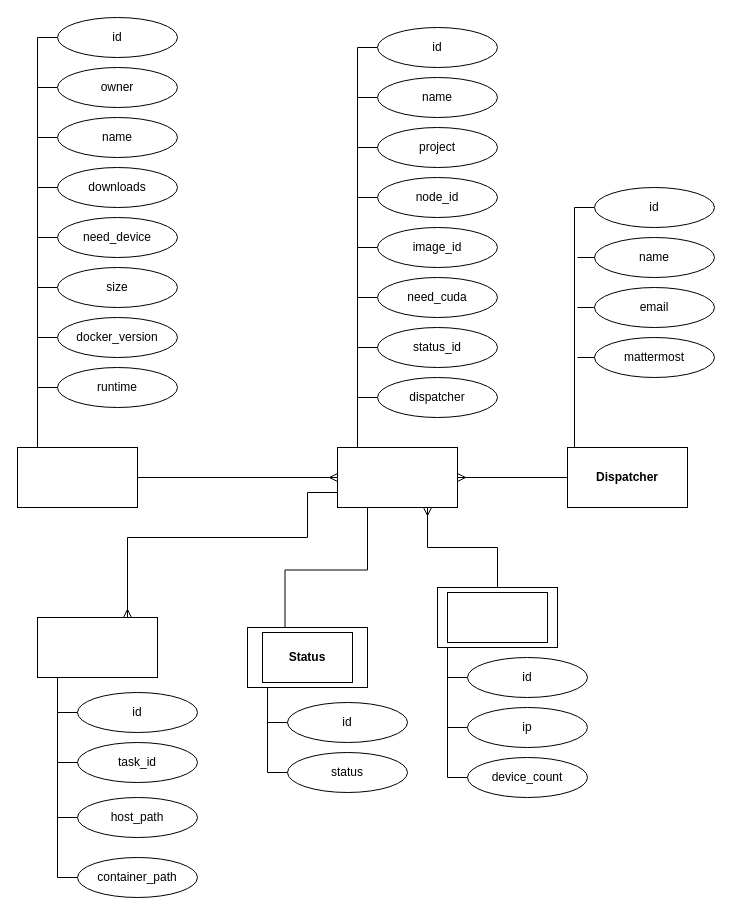
The diagram is 732 pixels wide and 915 high, and some of its shapes have lost their labels. Here are the shapes that lost their labels. From the top down, the box of each, then its label:
(16, 446, 138, 508): Images
(336, 446, 458, 508): Task
(446, 592, 548, 642): Node
(36, 616, 158, 678): Volume
